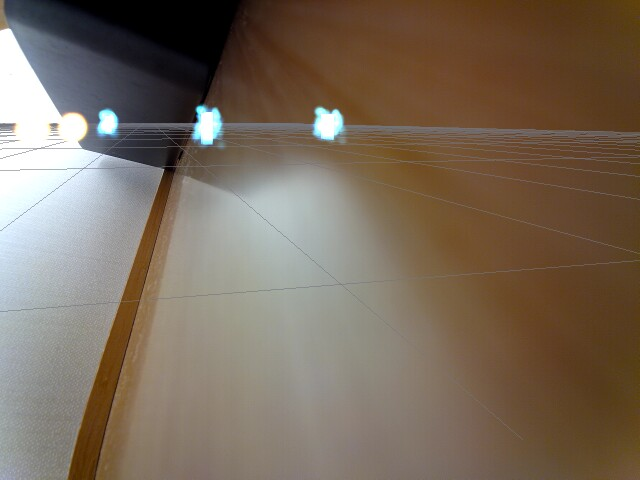fire: (10, 106, 54, 150), (57, 108, 90, 144)
